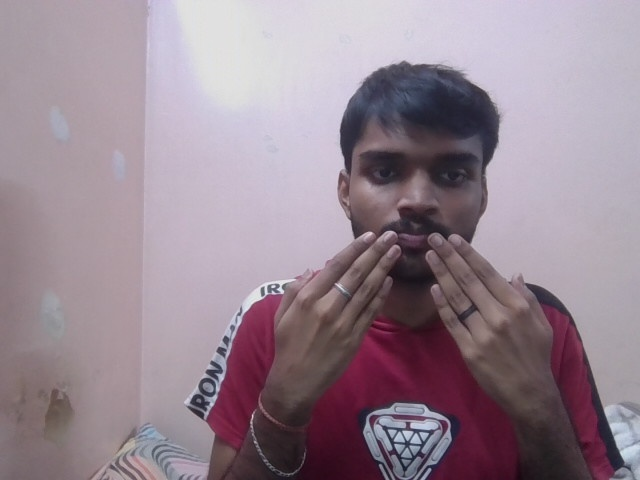Thank You: (272, 231, 555, 407)
